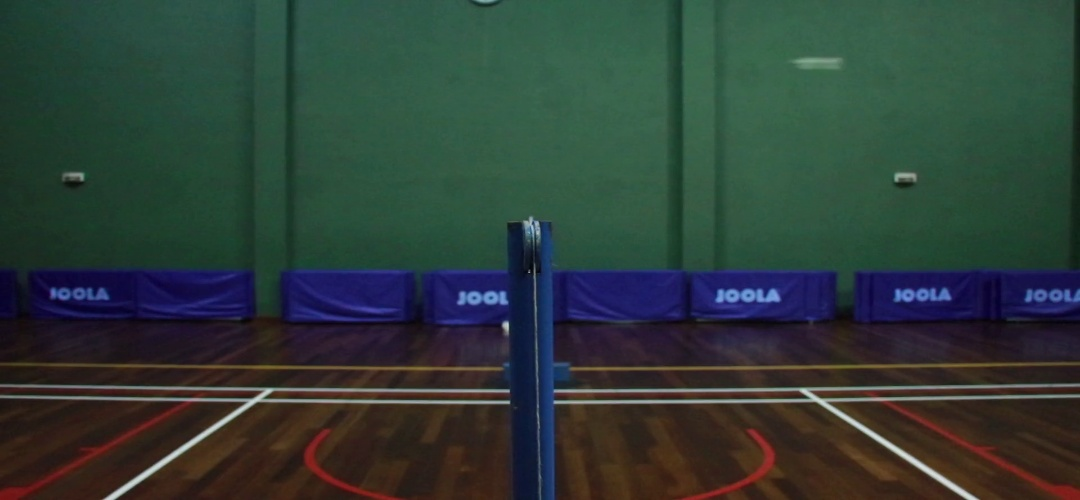c1: (244, 394, 271, 408)
c2: (799, 394, 841, 408)
net_level: (507, 221, 555, 286)
shuttle: (793, 55, 846, 72)
